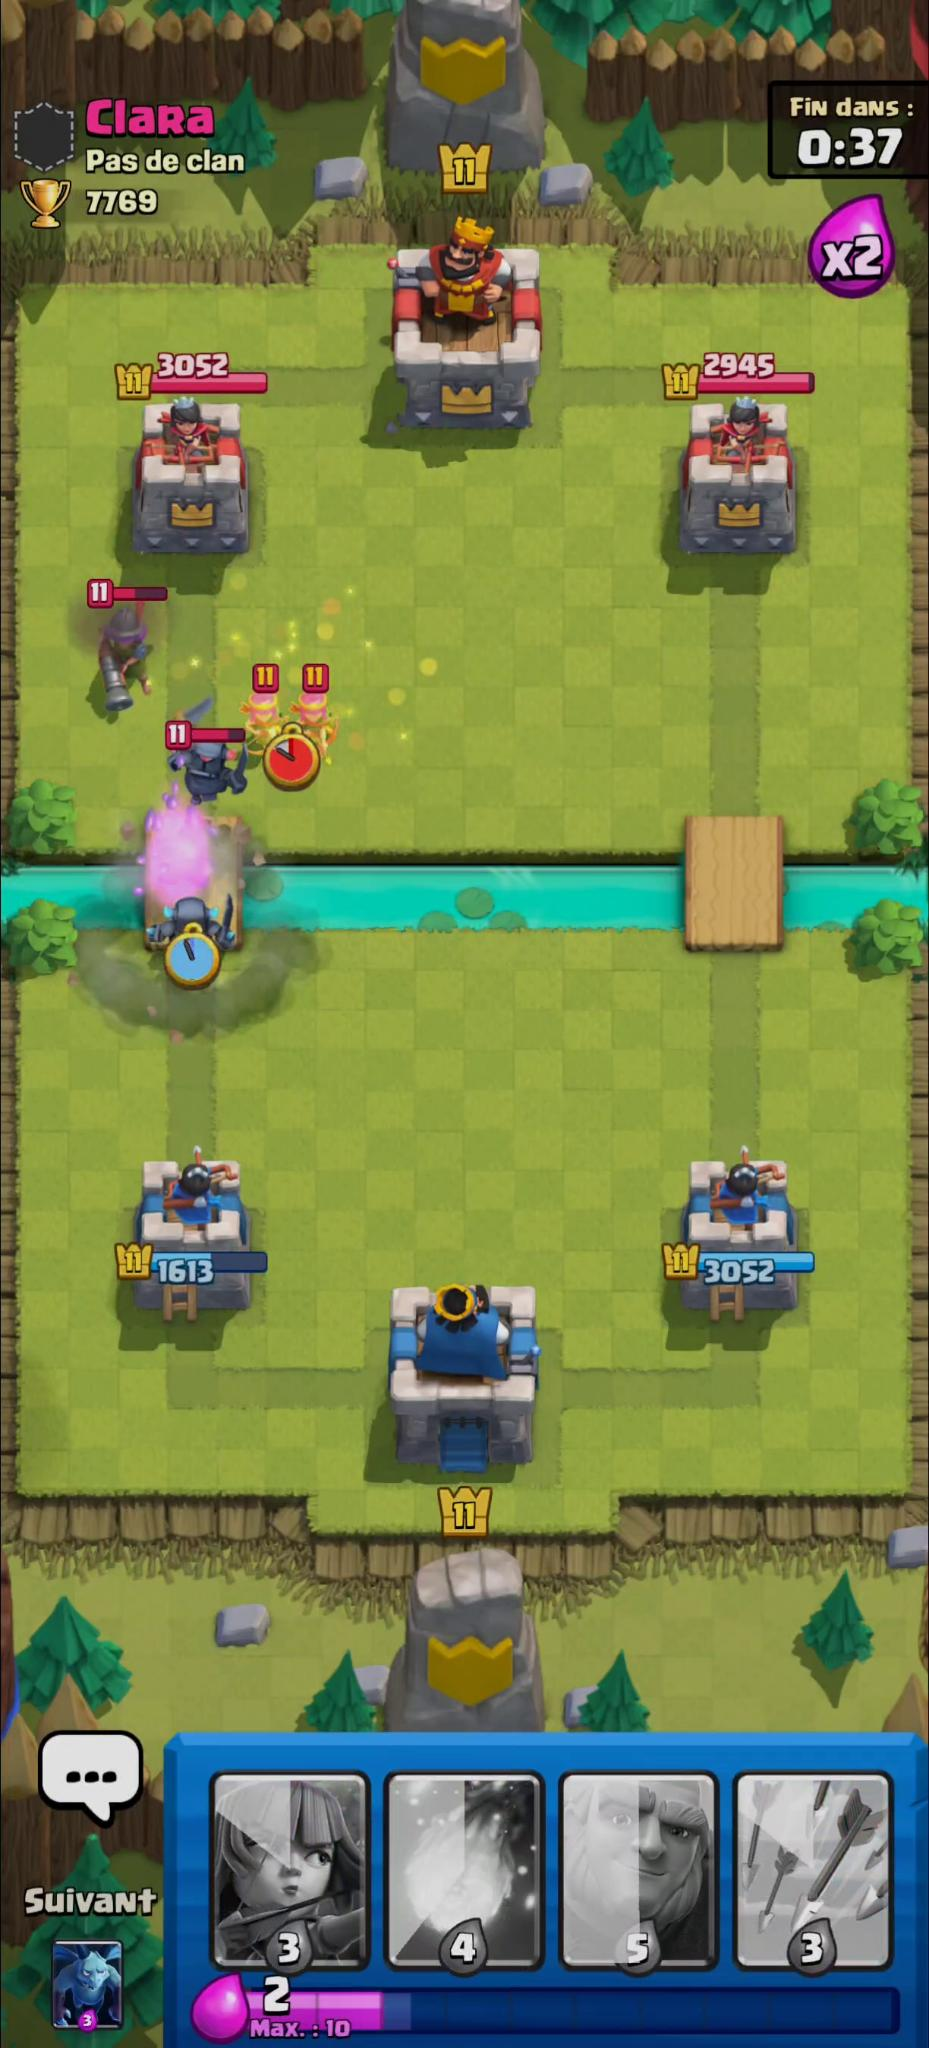archere: (290, 691, 344, 767), (242, 688, 294, 759)
mini_PEKKA: (170, 691, 250, 810), (145, 891, 239, 967)
mousquetaire: (93, 600, 158, 717)
